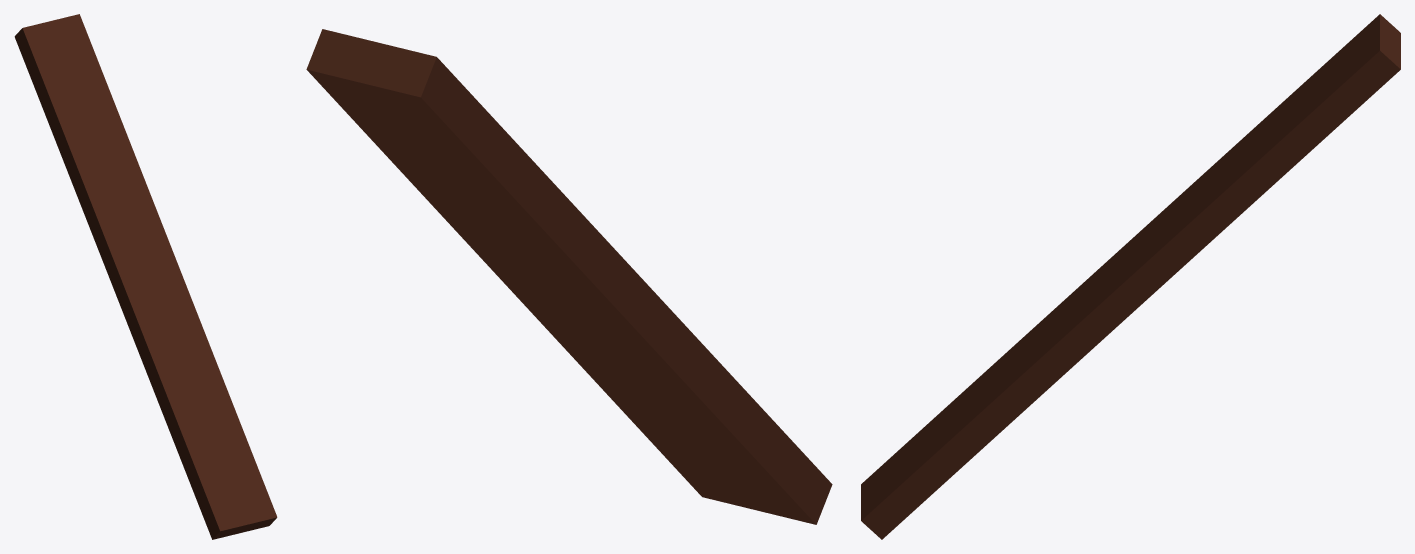
Rendered from wood_piece.FBX.
3 renders of one model, left to right at view 1: azimuth 30°, elevation 25°; view 2: azimuth 150°, elevation 25°; view 3: azimuth 270°, elevation 25°, orthographic. The views are drawn at different scales.
Parts seen in each view (by area): view 1: Box1524; view 2: Box1524; view 3: Box1524.
Part boxes in pixels (<box>): Box1524: <box>14,14,277,539</box>; Box1524: <box>306,29,832,524</box>; Box1524: <box>861,14,1400,539</box>.
Bounding box in the file's own units: 0.8695 × 5.42 × 5.42.
